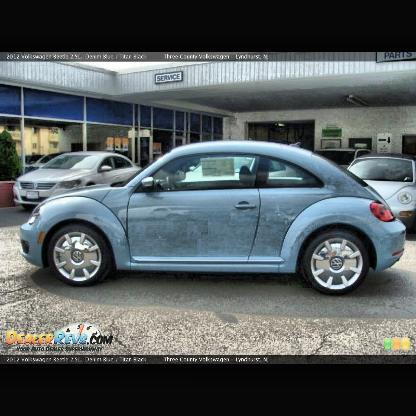Volkswagen Beetle Hatchback 2012: (24, 138, 407, 296)
